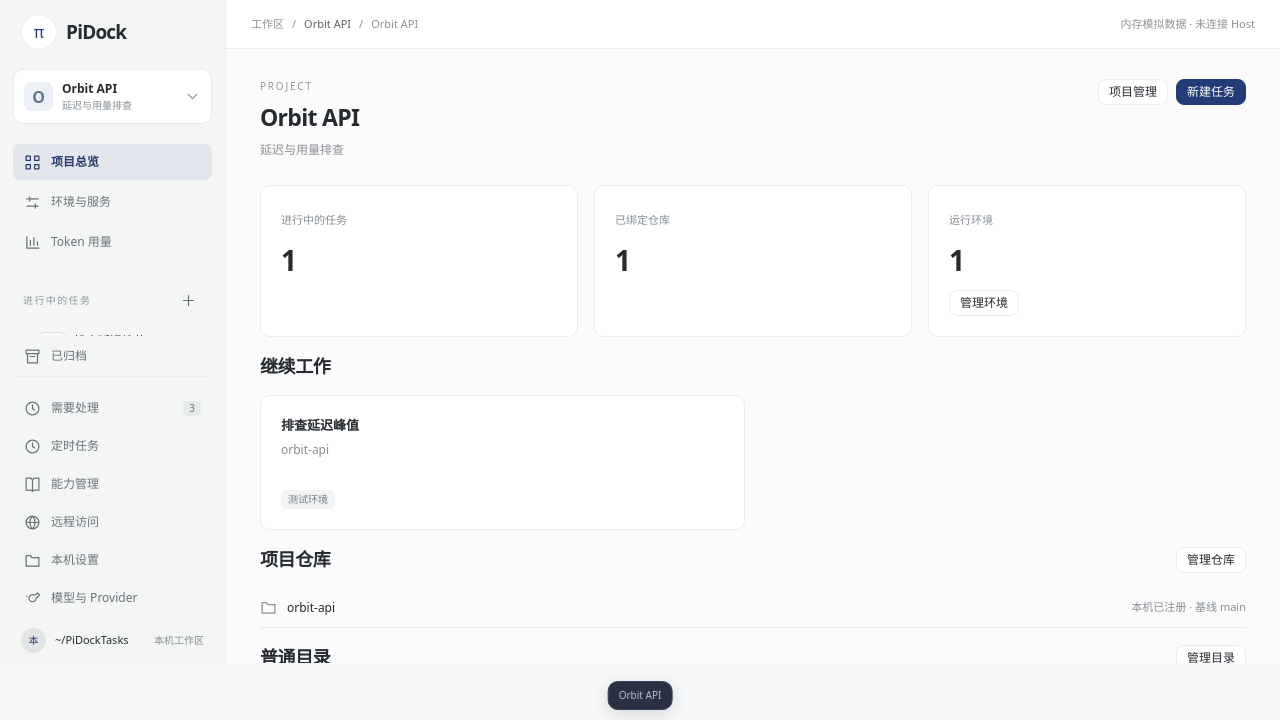
Test: project overview › opens the task workspace from a 继续工作 card
Check: the heading "Orbit API" is shown, box [260, 100, 359, 134]
Click the button with test id "project-task-latency": (320, 424) [260, 394, 745, 530]
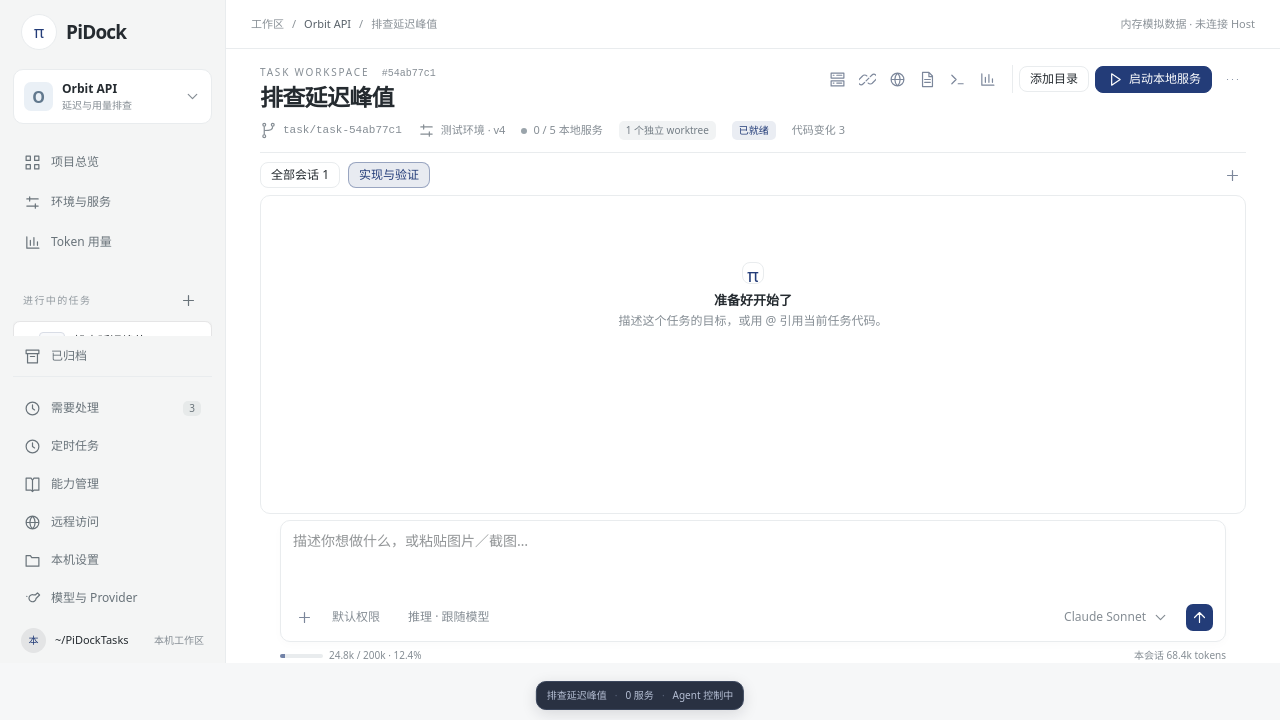
Check: the heading "排查延迟峰值" is shown, box [260, 81, 394, 113]
